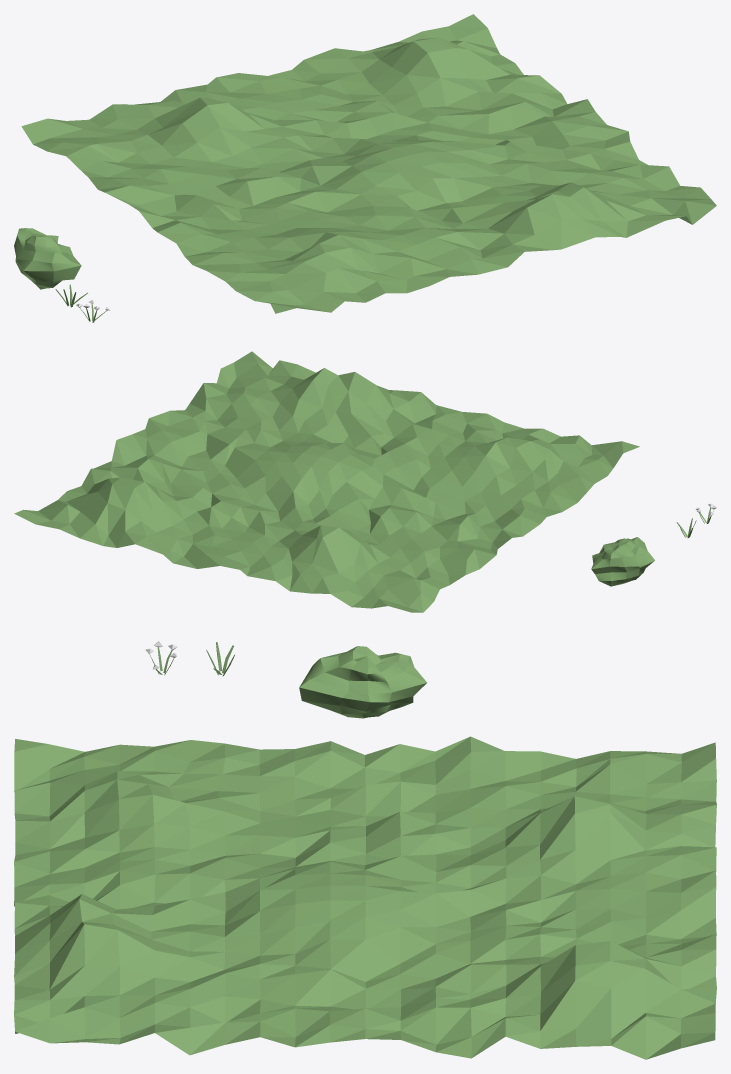
File: env-task.fbx
3 views of the same model, one above another, from view 1: azimuth 30°, elevation 25°; view 2: azimuth 150°, elevation 25°; view 3: azimuth 270°, elevation 25° (orthographic). The views are drawn at different scales.
Parts seen in each view (by area): view 1: m_terrain, m_bush; view 2: m_terrain, m_bush; view 3: m_terrain, m_bush.
Boxes of the visible parts, x1,y1,x2,y2 form: m_terrain: (21, 14, 716, 313); m_bush: (14, 228, 81, 289); m_terrain: (14, 351, 639, 612); m_bush: (591, 537, 654, 586); m_terrain: (14, 736, 716, 1059); m_bush: (299, 646, 426, 718).
Size of the model in its own units: 33.54 by 3.46 by 25.09.
